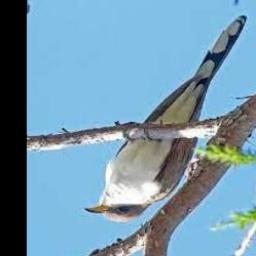Cuckoo: (86, 15, 248, 222)
